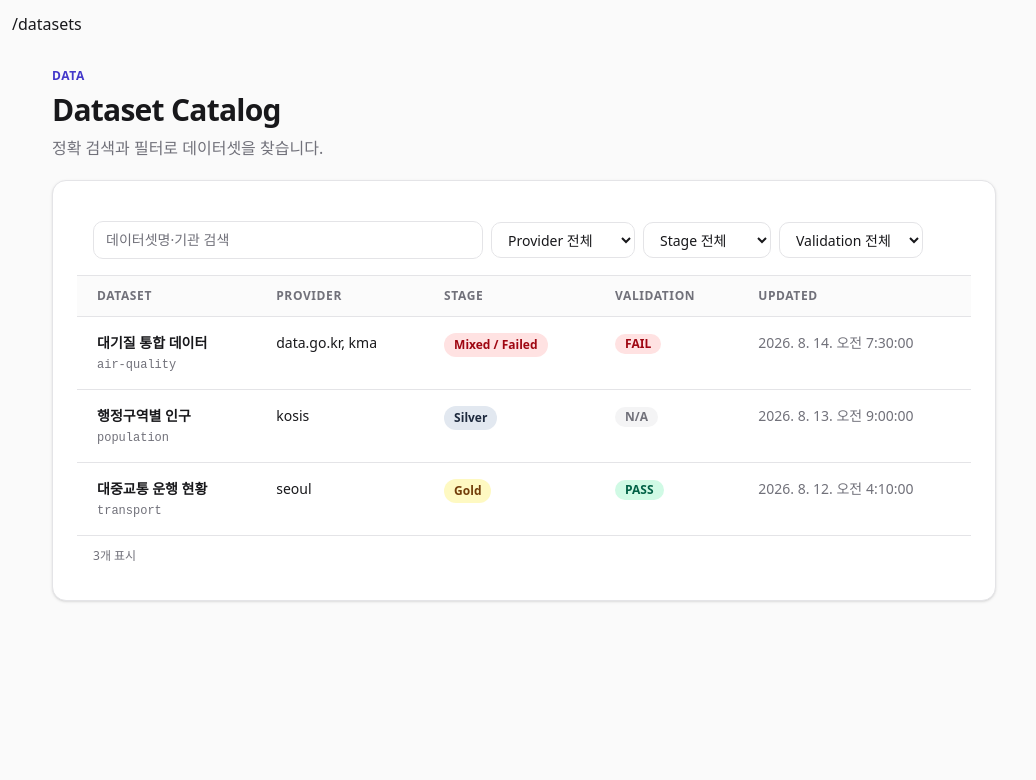
Test case: Dataset Catalog P0 (#253) › summarizes mixed/failed stages without expanding source details and filters by raw Builder status
Expected: the text "Mixed / Failed" is shown, top-left (444, 333), bottom-right (548, 357)
Select "unavailable" in the dropdown named "Stage 상태". click: (707, 240)
box: top-left (643, 222), bottom-right (771, 258)
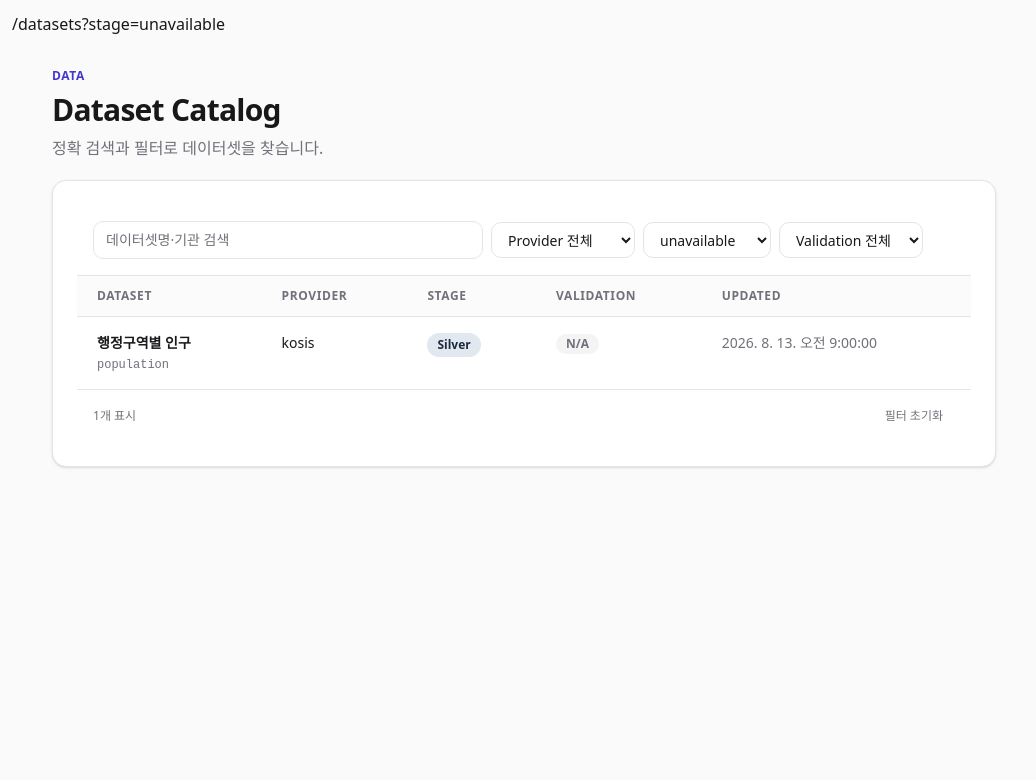
Expected: the text "행정구역별 인구" is shown, top-left (97, 333), bottom-right (191, 352)
Now the link "대기질 통합 데이터" is gone
